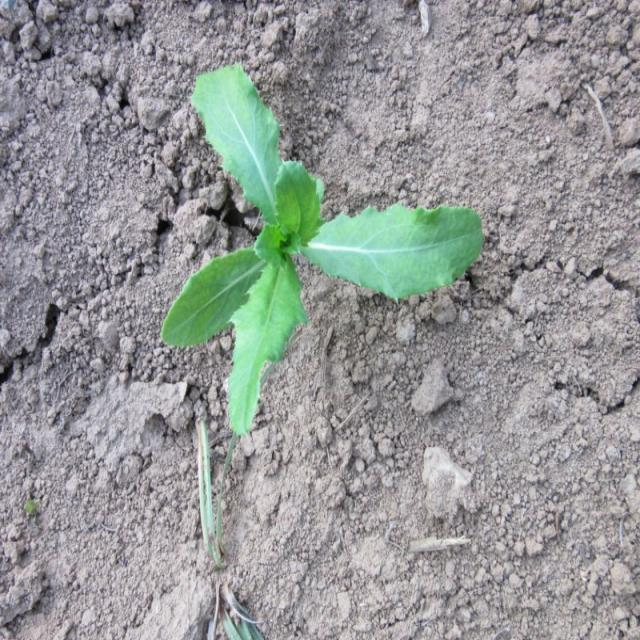cs: (157, 58, 488, 438)
